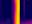Hotspot: (15, 1, 20, 23)
